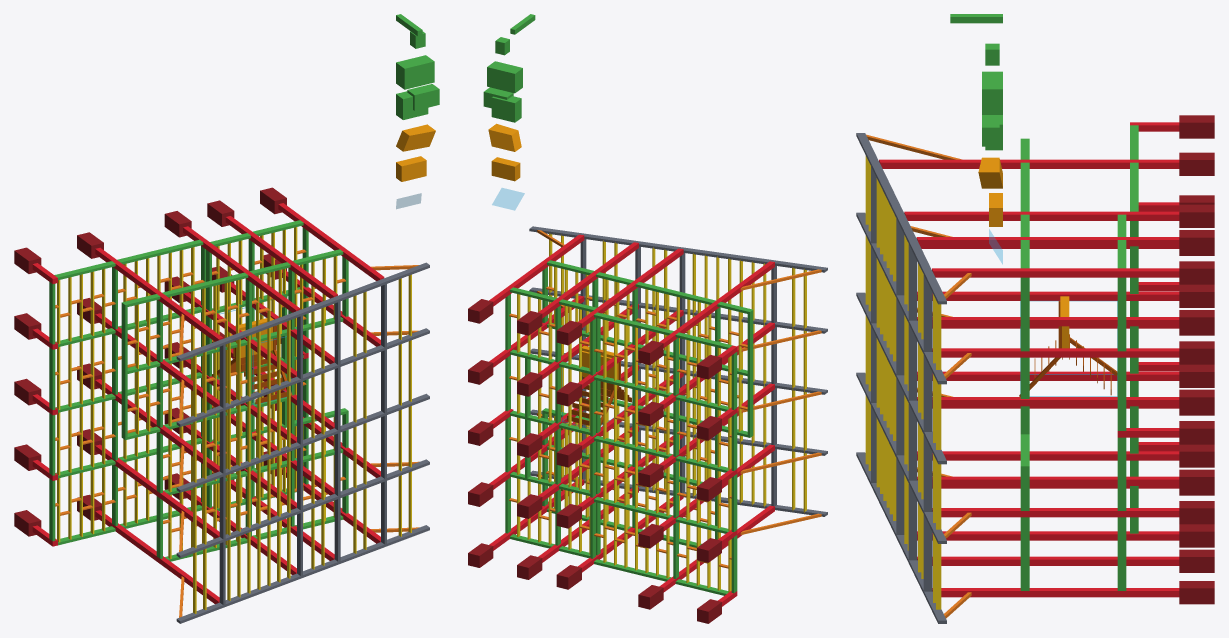
File: tinker.obj
3 renders of one model, left to right at view 1: azimuth 30°, elevation 25°; view 2: azimuth 150°, elevation 25°; view 3: azimuth 270°, elevation 25°, orthographic. The views are drawn at different scales.
Visible parts, largest first — view 1: obj_1, obj_420, obj_2, obj_20, obj_15, obj_3, obj_421, obj_4, obj_11, obj_6, obj_419, obj_7 (+9 smaller); view 2: obj_1, obj_420, obj_2, obj_421, obj_3, obj_4, obj_419, obj_20, obj_15, obj_7, obj_21, obj_12 (+10 smaller); view 3: obj_1, obj_2, obj_3, obj_4, obj_9, obj_18, obj_23, obj_13, obj_17, obj_22, obj_8, obj_16 (+53 smaller).
Boxes of the visible parts, <box> form: obj_1: <box>95,247,222,341</box>; obj_420: <box>396,84,439,119</box>; obj_2: <box>183,226,300,312</box>; obj_20: <box>95,510,219,603</box>; obj_15: <box>95,444,219,538</box>; obj_3: <box>225,216,337,298</box>; obj_421: <box>396,55,434,89</box>; obj_4: <box>278,203,384,280</box>; obj_11: <box>95,379,219,472</box>; obj_6: <box>95,313,219,407</box>; obj_419: <box>396,124,435,151</box>; obj_7: <box>183,292,296,378</box>; obj_1: <box>659,261,774,347</box>; obj_420: <box>483,87,521,122</box>; obj_2: <box>578,248,683,327</box>; obj_421: <box>487,61,522,93</box>; obj_3: <box>538,242,638,318</box>; obj_4: <box>489,234,584,306</box>; obj_419: <box>488,123,521,151</box>; obj_20: <box>659,505,774,592</box>; obj_15: <box>659,444,774,531</box>; obj_7: <box>578,310,683,389</box>; obj_21: <box>578,496,683,572</box>; obj_12: <box>578,372,683,450</box>; obj_1: <box>879,159,1179,168</box>; obj_2: <box>904,211,1179,220</box>; obj_3: <box>916,237,1179,246</box>; obj_4: <box>932,268,1179,277</box>; obj_9: <box>932,348,1179,357</box>; obj_18: <box>932,508,1179,517</box>; obj_23: <box>932,588,1179,597</box>; obj_13: <box>917,397,1179,406</box>; obj_17: <box>917,476,1179,485</box>; obj_22: <box>917,556,1179,565</box>; obj_8: <box>917,317,1179,326</box>; obj_16: <box>917,451,1179,460</box>.
Bounding box in the file's own units: 132 × 192 × 102.
